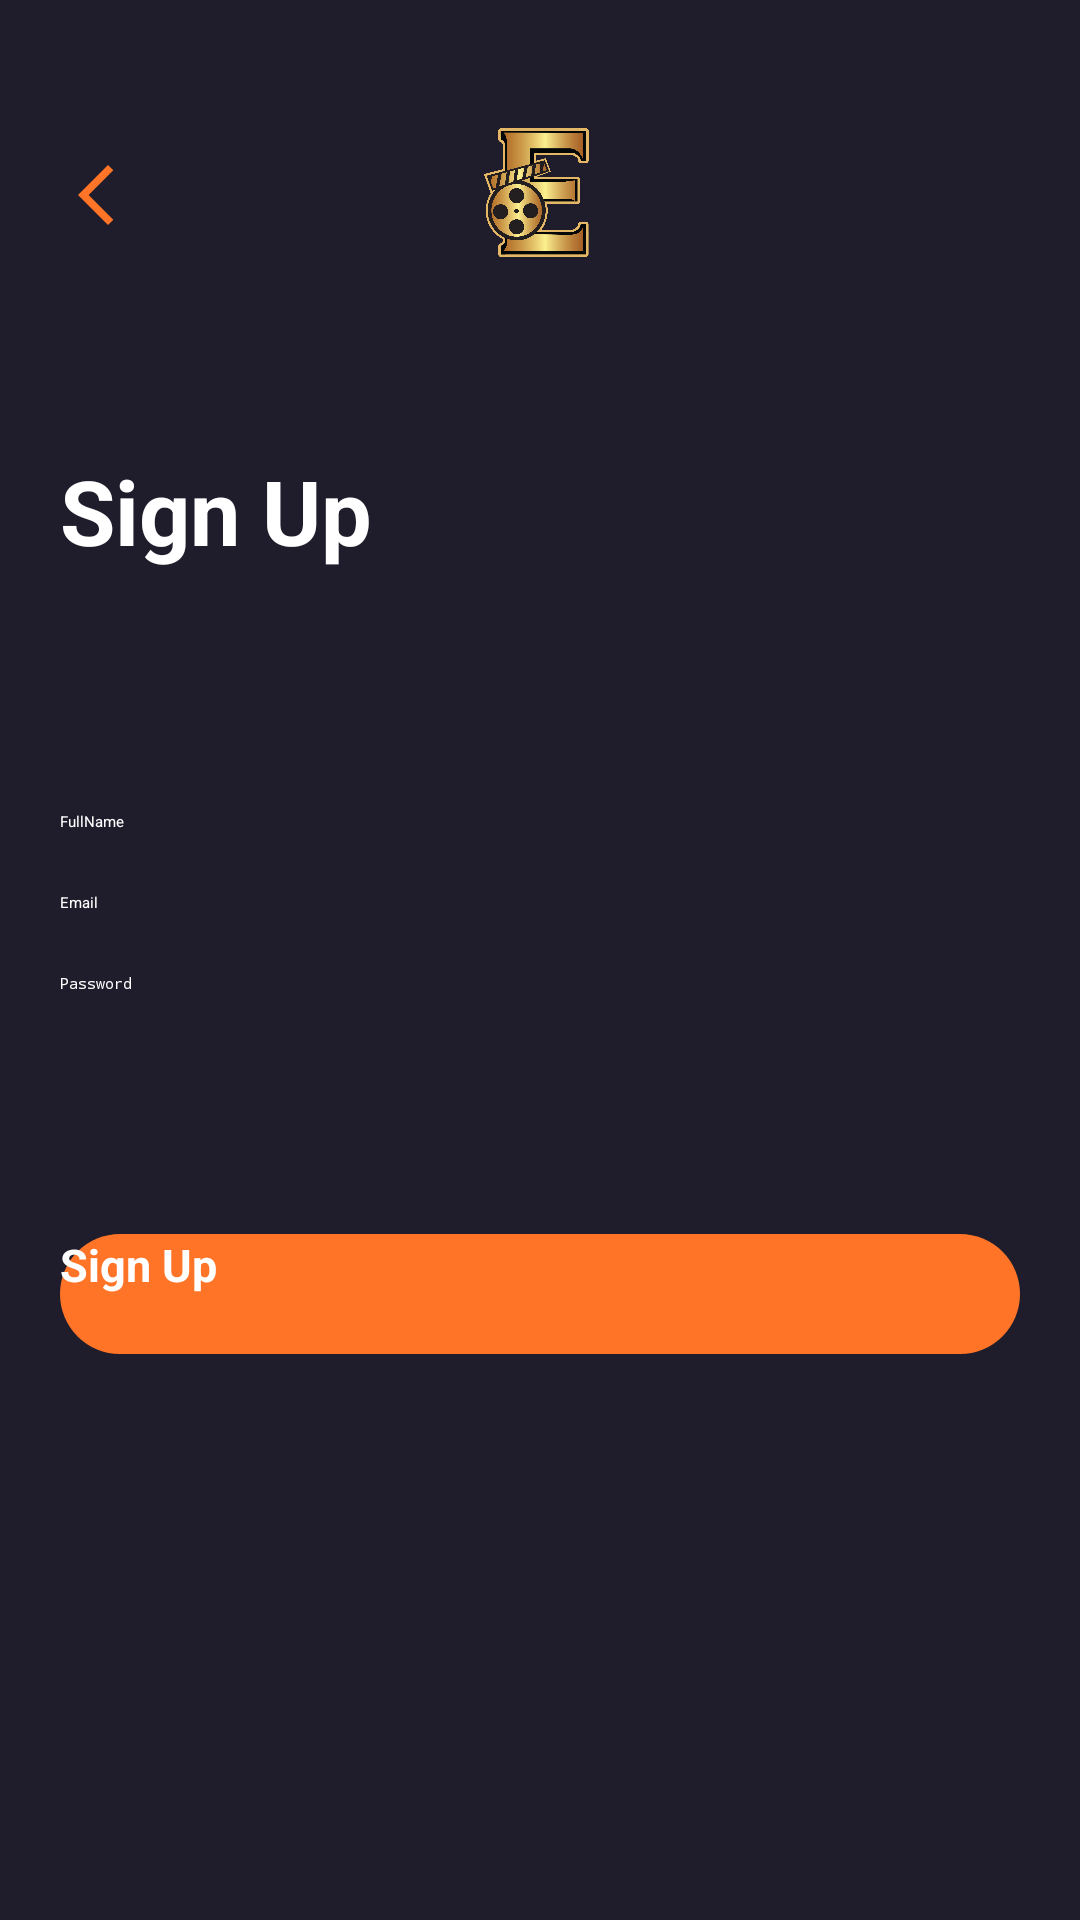

Point at icon controls on the screen. Image size 1080px×1920px, points as (x=x, y=y).
arrow back: (x=95, y=195)
